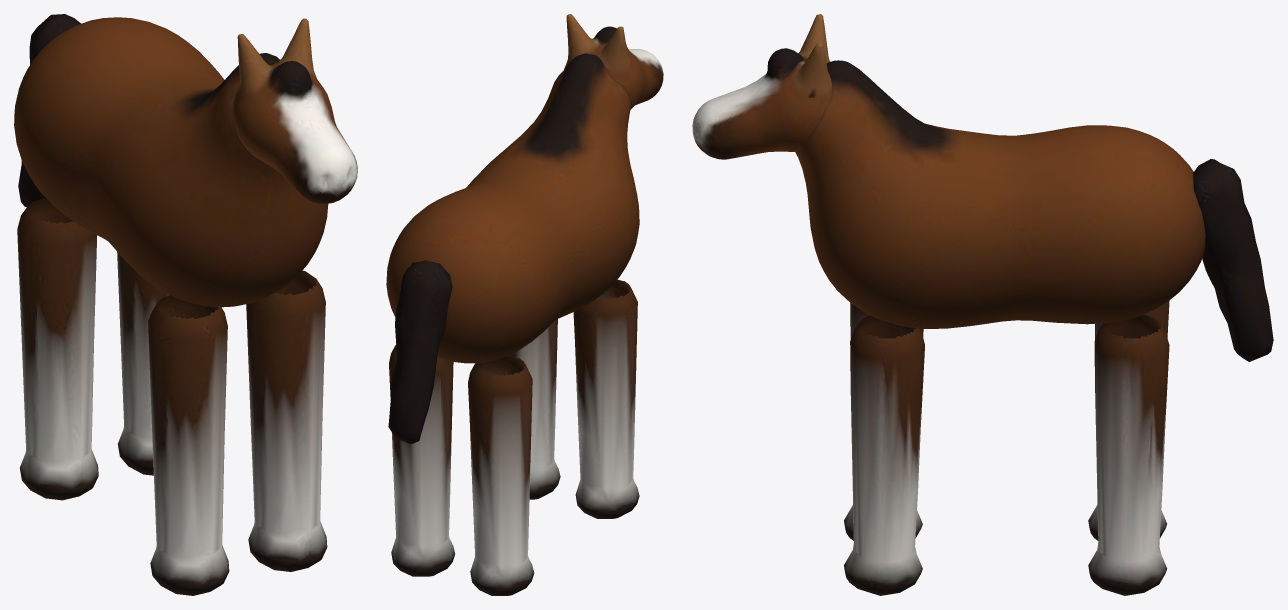
Rendered from animal_clydesdale.glb.
3 renders of one model, left to right at view 1: azimuth 30°, elevation 25°; view 2: azimuth 150°, elevation 25°; view 3: azimuth 270°, elevation 25°, orthographic. The views are drawn at different scales.
Parts seen in each view (by area): view 1: animal_clydesdale, leg0, leg2, leg1, head, leg3, tail; view 2: animal_clydesdale, leg2, leg0, leg3, tail, leg1, head; view 3: animal_clydesdale, leg3, leg1, head, tail, leg2.
Boxes of the visible parts, bbox=[...] form: animal_clydesdale: bbox=[14, 17, 328, 307]; leg0: bbox=[148, 295, 229, 595]; leg2: bbox=[17, 198, 98, 500]; leg1: bbox=[246, 270, 327, 571]; head: bbox=[233, 18, 357, 203]; leg3: bbox=[117, 252, 169, 475]; tail: bbox=[18, 14, 81, 207]; animal_clydesdale: bbox=[386, 53, 639, 363]; leg2: bbox=[468, 355, 534, 595]; leg0: bbox=[573, 279, 639, 518]; leg3: bbox=[389, 344, 455, 576]; tail: bbox=[388, 260, 452, 444]; leg1: bbox=[509, 319, 560, 499]; head: bbox=[564, 14, 663, 109]; animal_clydesdale: bbox=[795, 60, 1205, 328]; leg3: bbox=[1088, 314, 1169, 595]; leg1: bbox=[844, 315, 924, 595]; head: bbox=[692, 14, 832, 159]; tail: bbox=[1193, 159, 1273, 361]; leg2: bbox=[1088, 300, 1169, 540].
Bounding box in the file's own units: 0.2459 × 0.7315 × 0.7135.
1 material, 1 textured.
